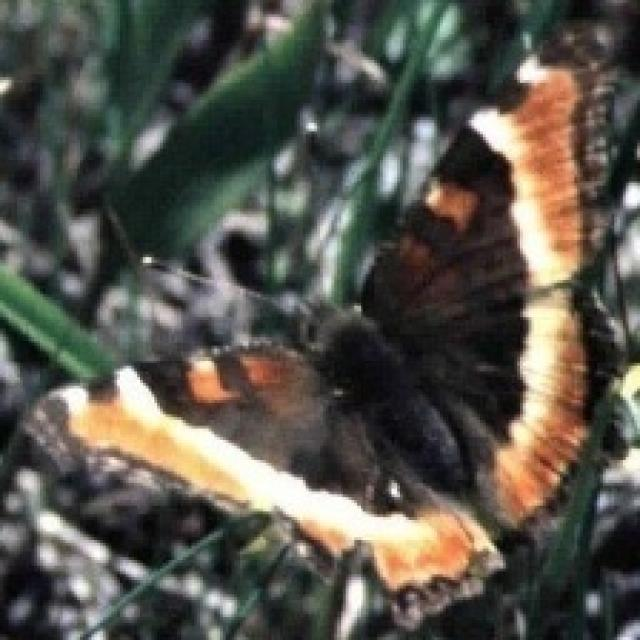butterfly: (17, 29, 637, 628)
